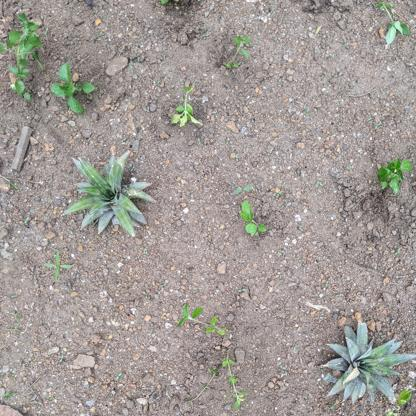pineapple: (64, 147, 157, 241), (319, 319, 416, 406)
weed: (177, 301, 251, 405), (2, 13, 41, 100), (48, 61, 100, 116), (372, 3, 416, 56), (373, 155, 415, 201), (170, 83, 204, 130), (216, 32, 260, 67), (236, 200, 272, 242)
